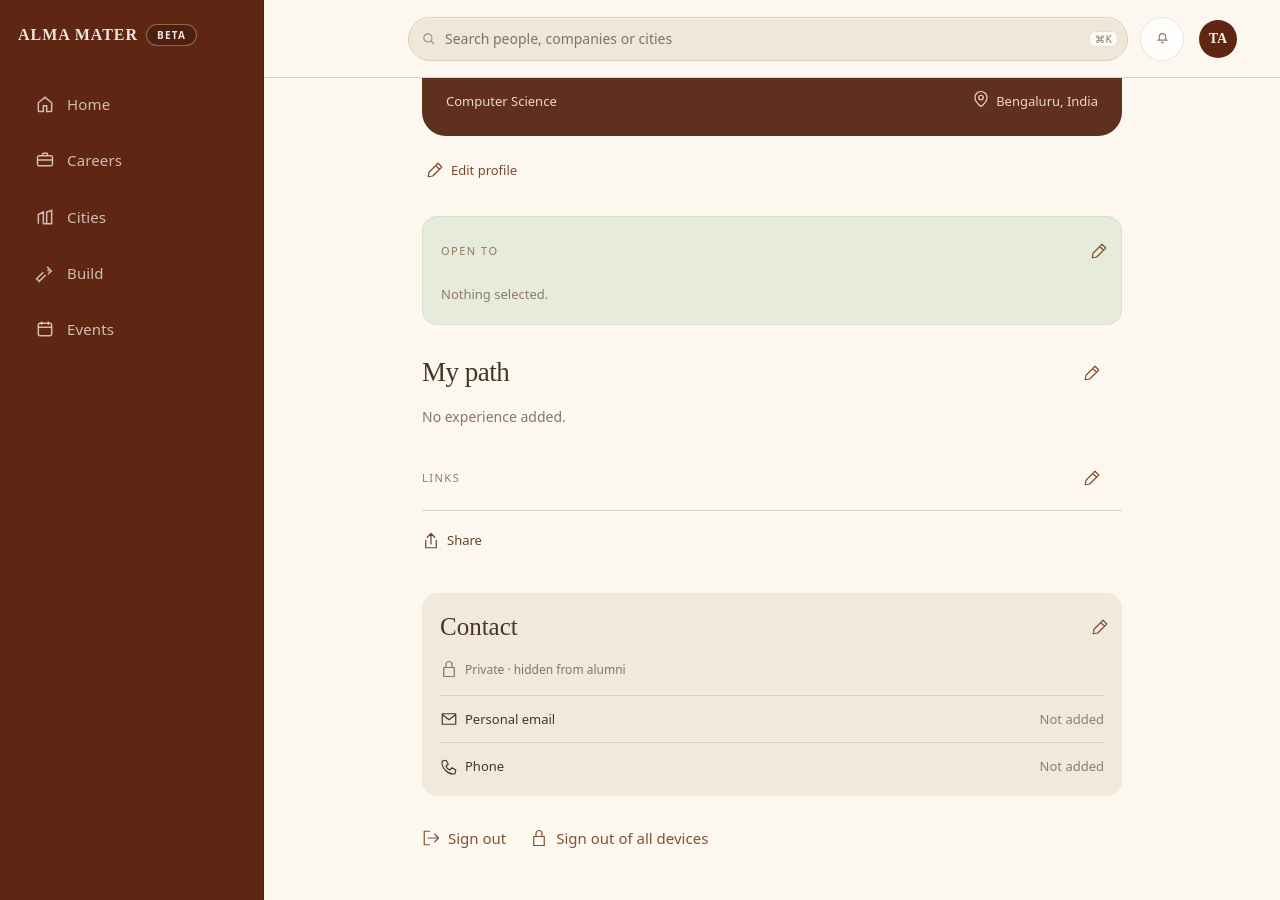
it: Profile sign out › sign out of all devices: cancel does nothing; a failure is shown and you stay signed in
The image size is (1280, 900).
(page scrolled)
Click the button "Sign out of all devices". click: (619, 838)
box: [530,816,708,860]
(page scrolled)
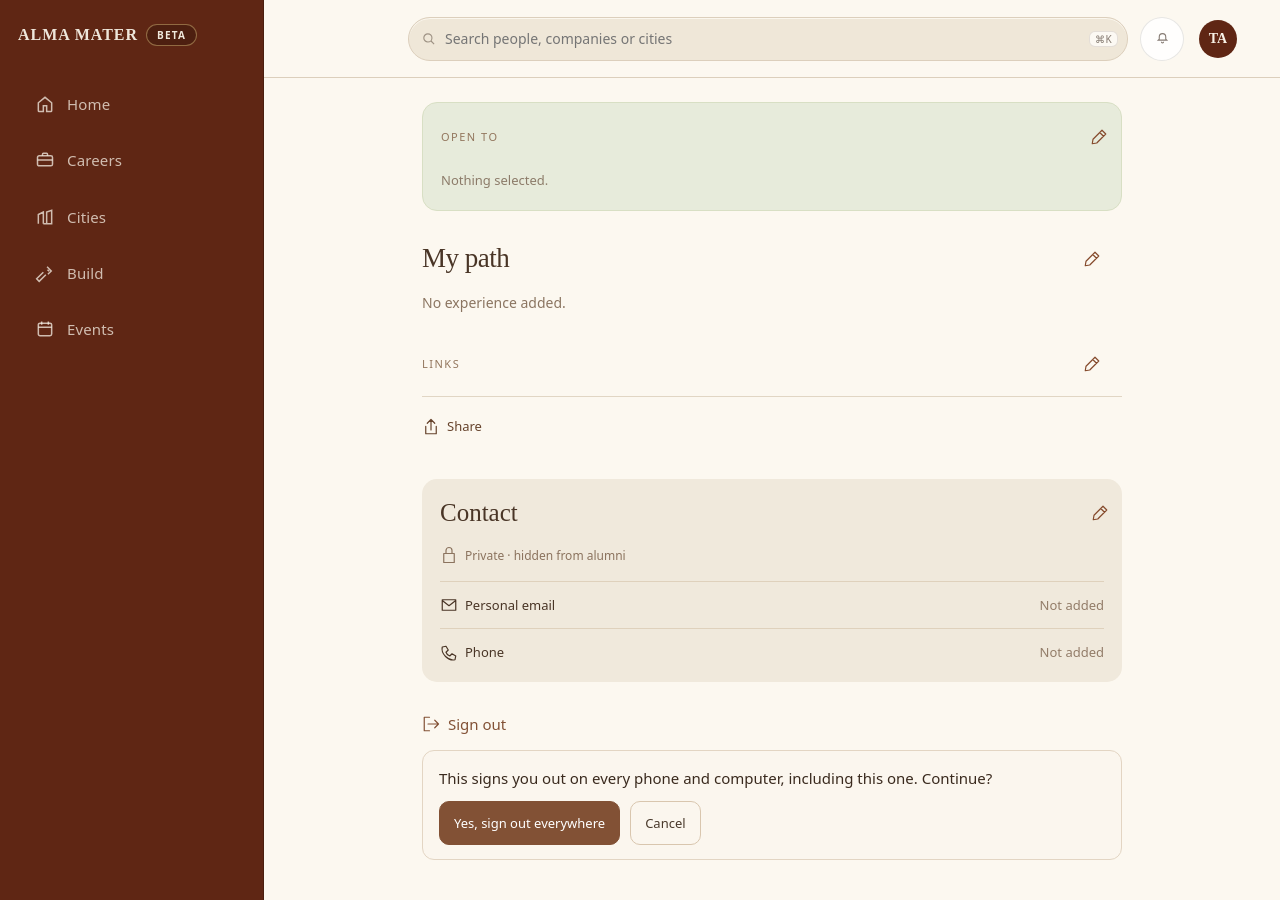
Click the button "Cancel". click: (665, 823)
box: [630,801,701,845]
(page scrolled)
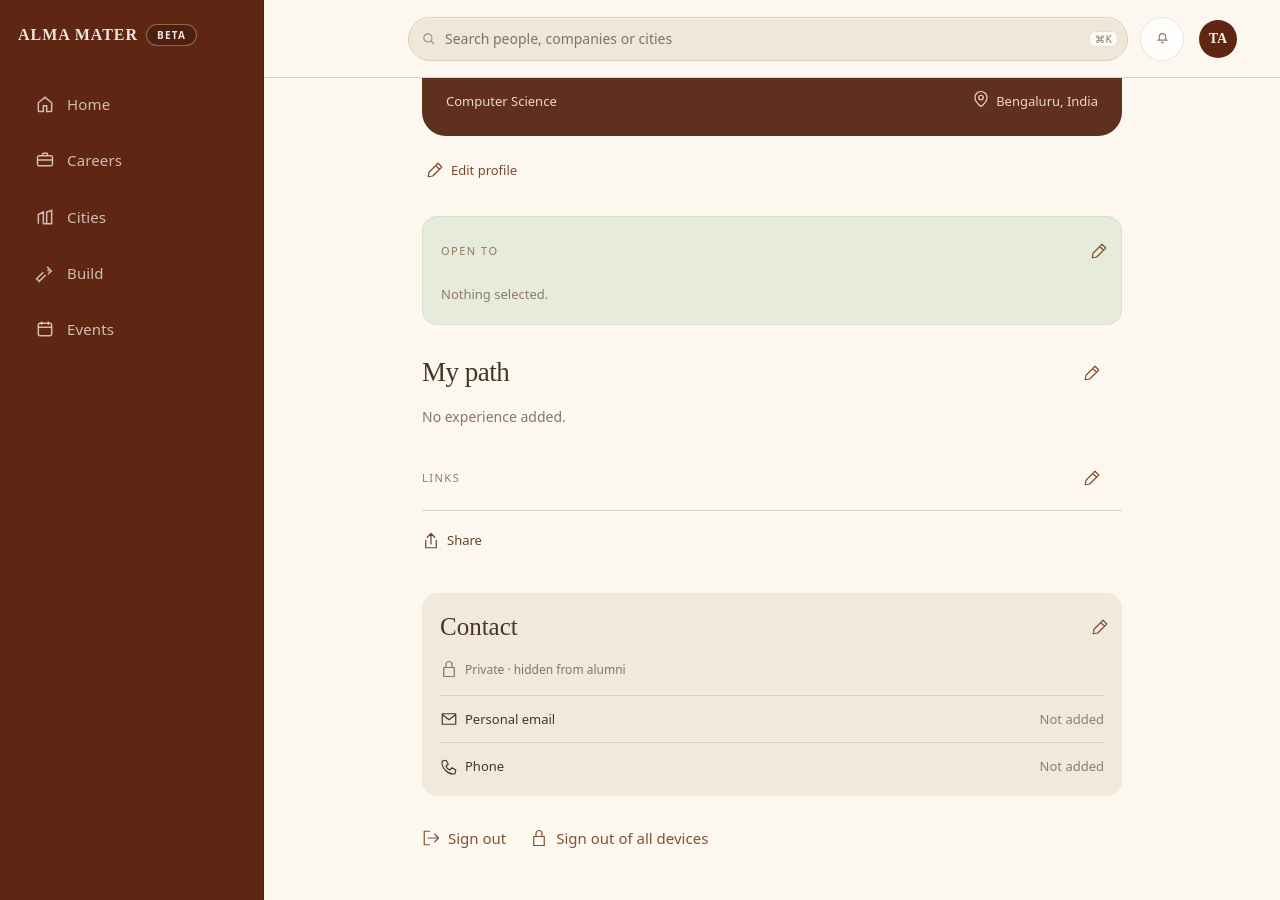
Expected: the button "Sign out of all devices" is shown
Click the button "Sign out of all devices". click: (619, 838)
box: [530,816,708,860]
(page scrolled)
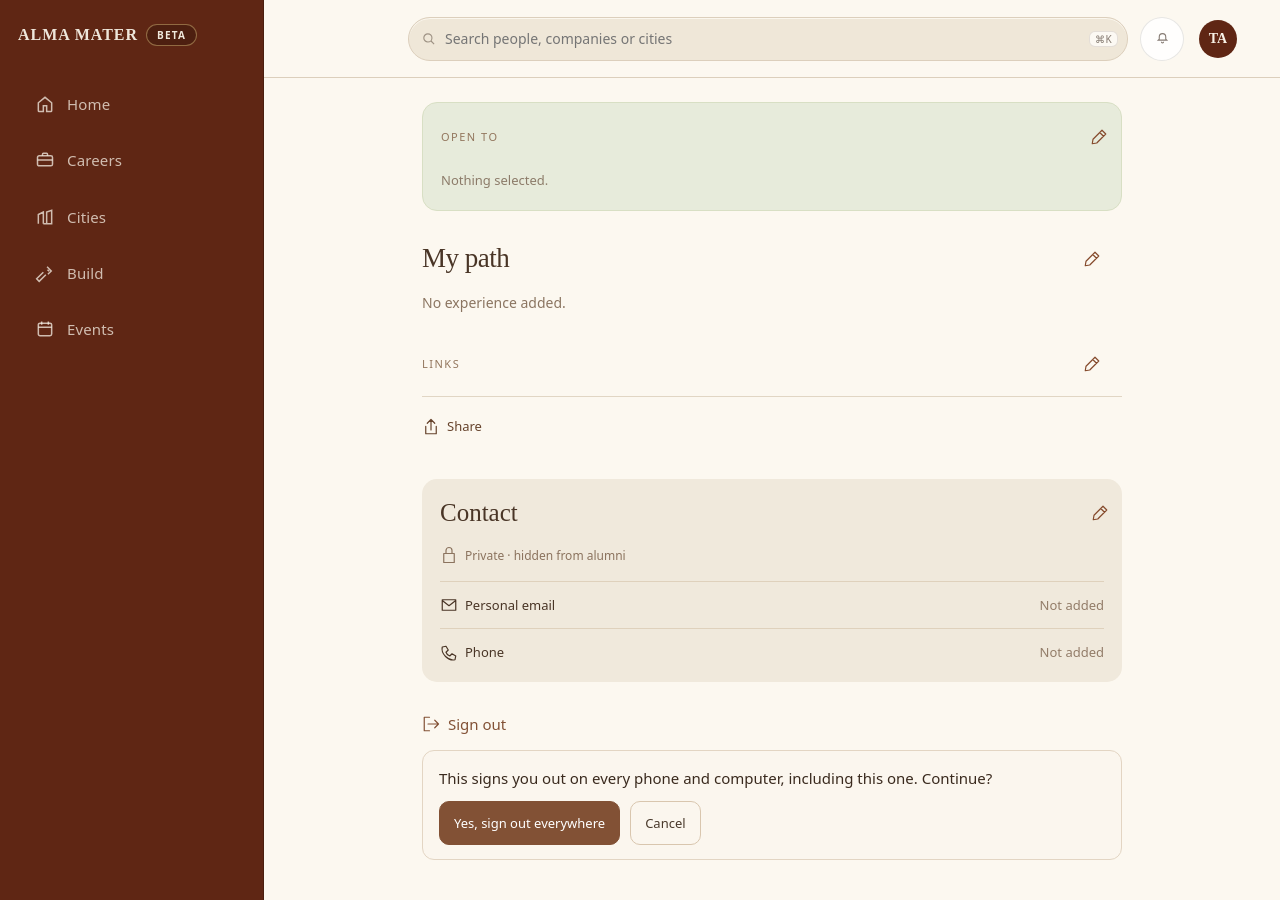
Click the button "Yes, sign out everywhere". click: (530, 823)
box: [439,801,620,845]
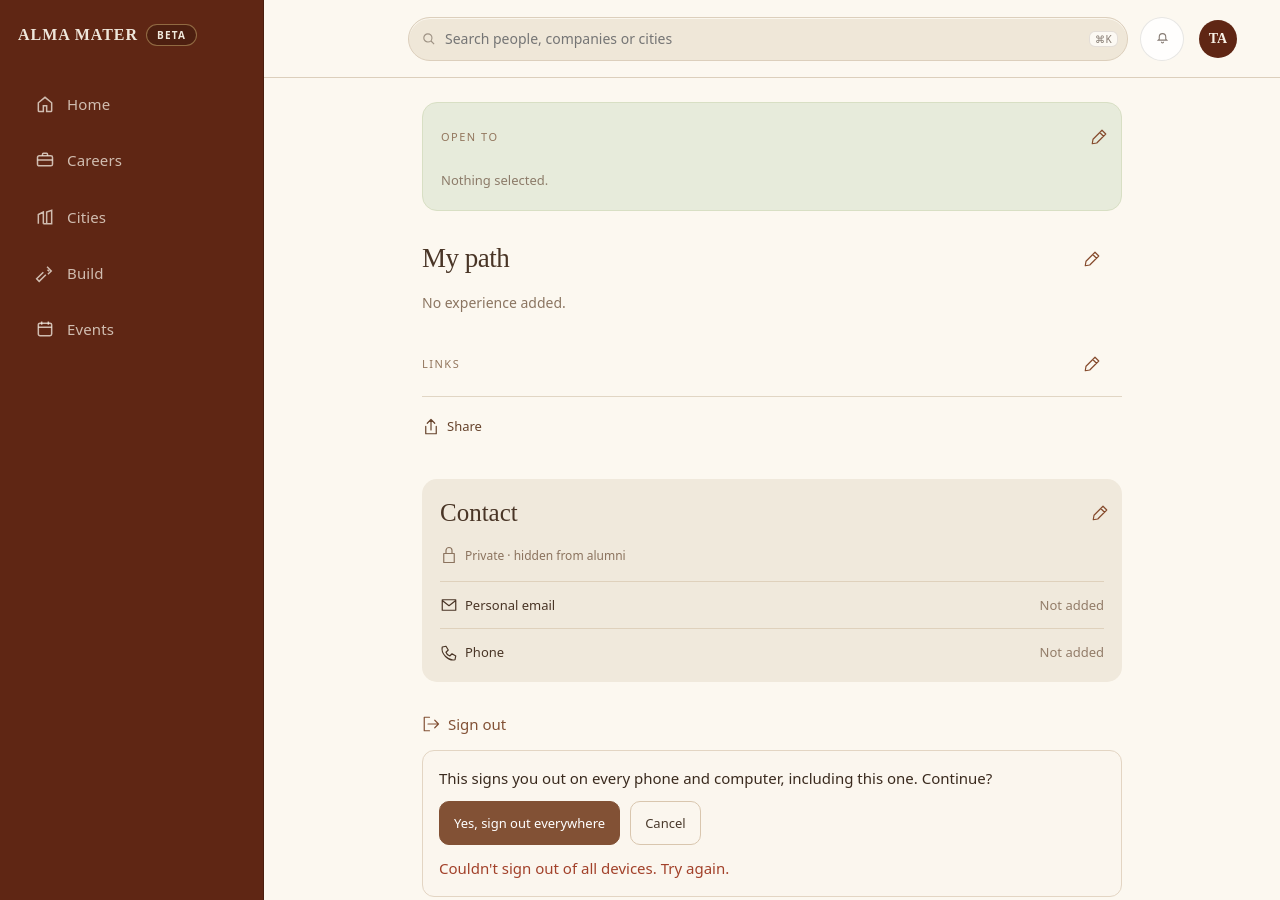
Expected: the message shows "Try again", [439,858,729,878]
